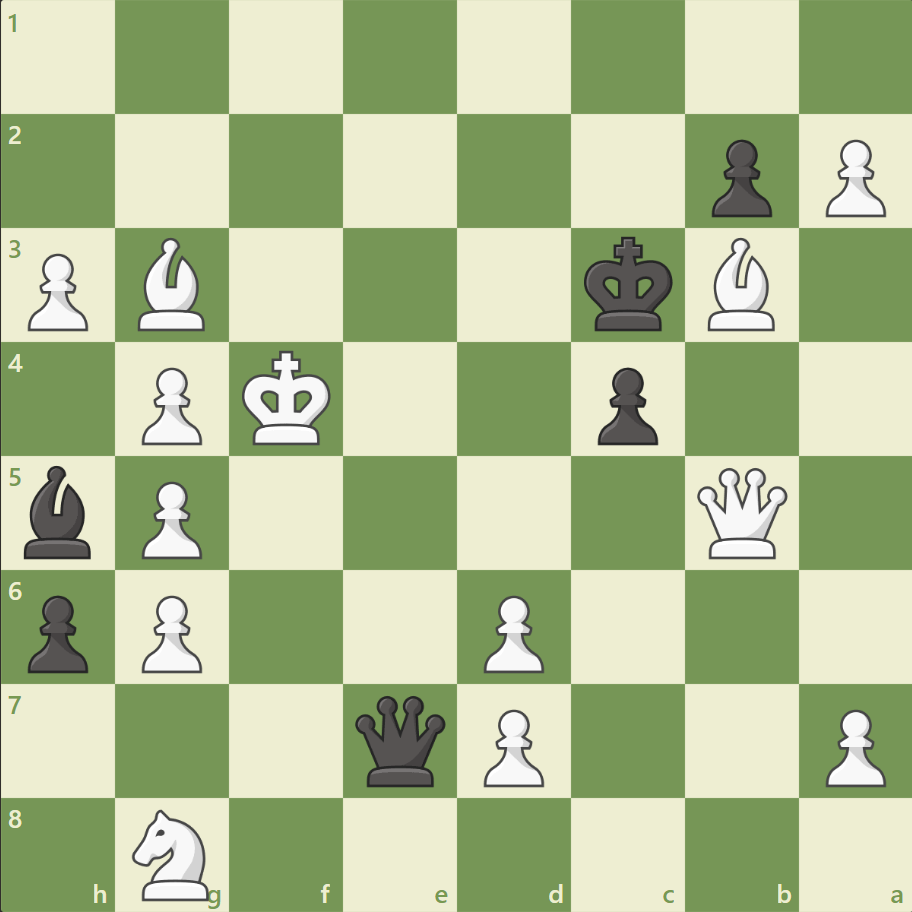B: (698, 233, 782, 336), (131, 233, 215, 336)
K: (238, 344, 338, 452)
N: (124, 802, 222, 904)
P: (474, 700, 549, 791), (474, 586, 549, 677), (133, 586, 208, 677), (133, 473, 208, 564), (133, 359, 208, 450), (20, 246, 95, 337), (815, 700, 889, 791), (815, 132, 889, 223)
Q: (691, 463, 790, 562)
b: (17, 460, 101, 563)
k: (579, 231, 679, 339)
p: (20, 586, 95, 677), (701, 132, 776, 223), (588, 359, 662, 450)
q: (351, 690, 450, 789)
